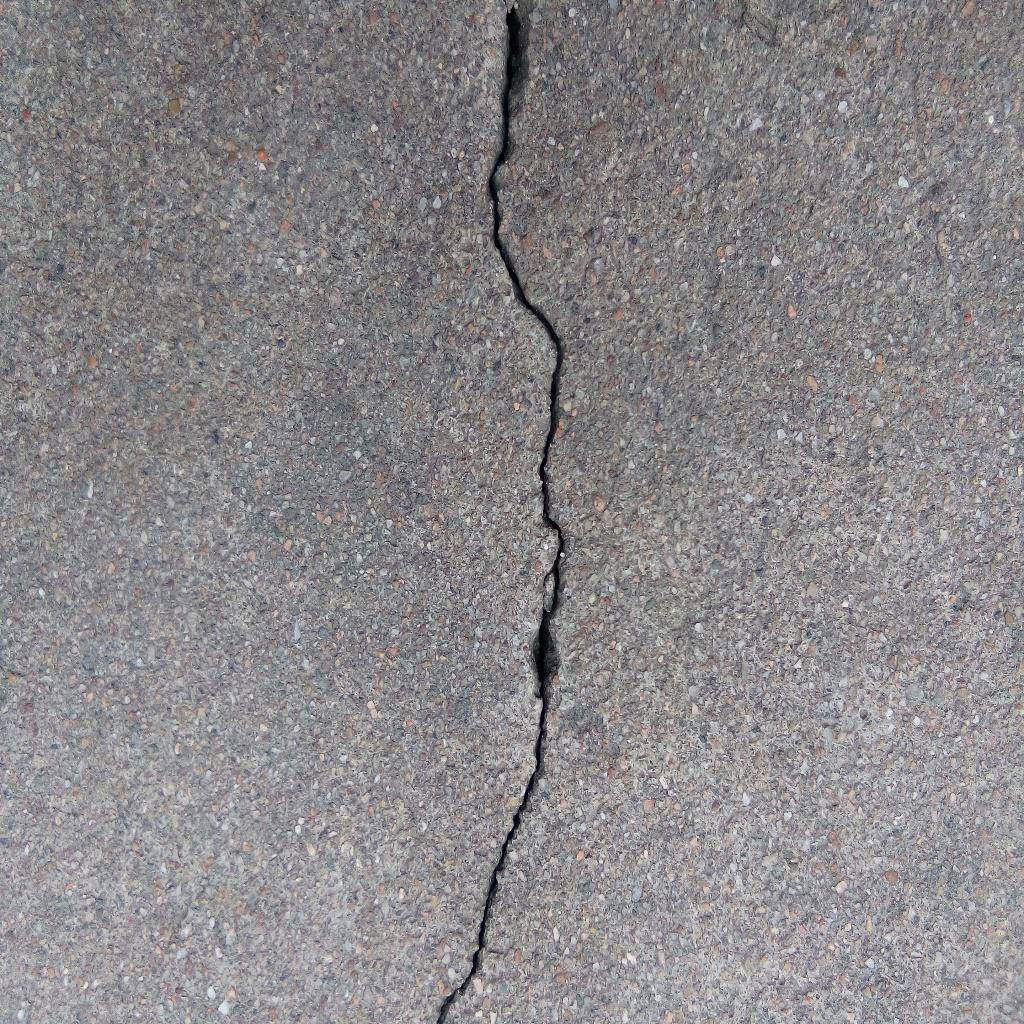Crack: (433, 1, 565, 1024)
